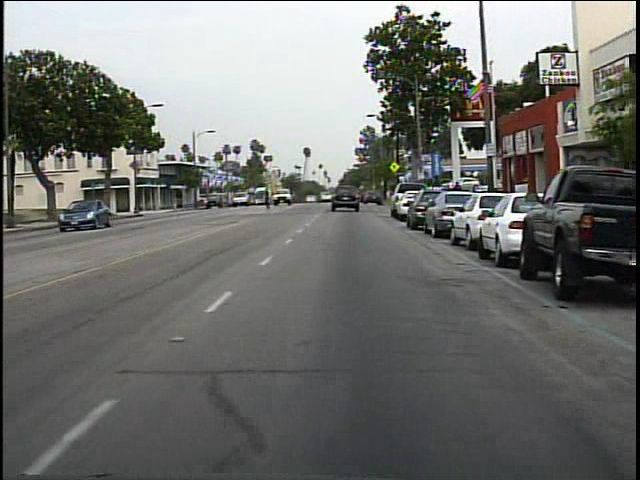person: (448, 177, 469, 220), (262, 185, 276, 215)
